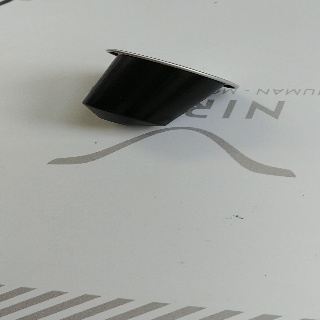capsule_10: (81, 48, 240, 127)
